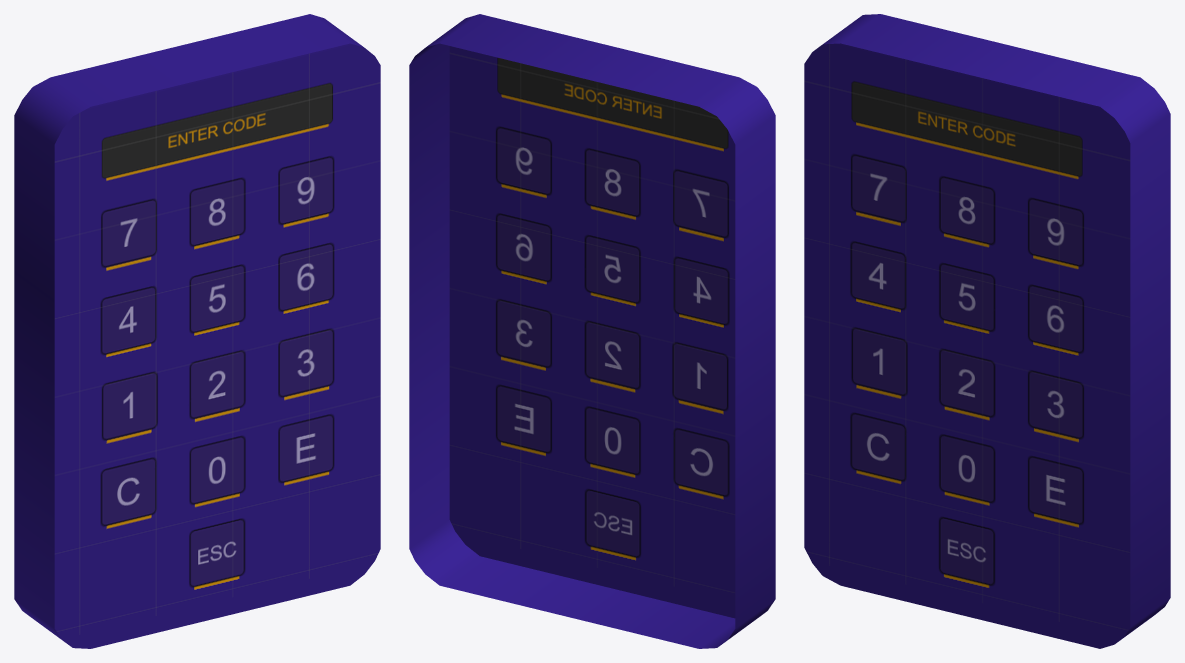
File: Keypad_Scifi_Model.FBX
3 renders of one model, left to right at view 1: azimuth 30°, elevation 25°; view 2: azimuth 150°, elevation 25°; view 3: azimuth 330°, elevation 25°, orthographic.
Parts seen in each view (by area): view 1: Keypad_Scifi_Model; view 2: Keypad_Scifi_Model; view 3: Keypad_Scifi_Model.
Part boxes in pixels (left/top/right/bottom): Keypad_Scifi_Model: left=14, top=14, right=380, bottom=648; Keypad_Scifi_Model: left=409, top=14, right=775, bottom=648; Keypad_Scifi_Model: left=804, top=14, right=1170, bottom=648.
Size of the model in its own units: 0.0882 by 0.1403 by 0.0189.
